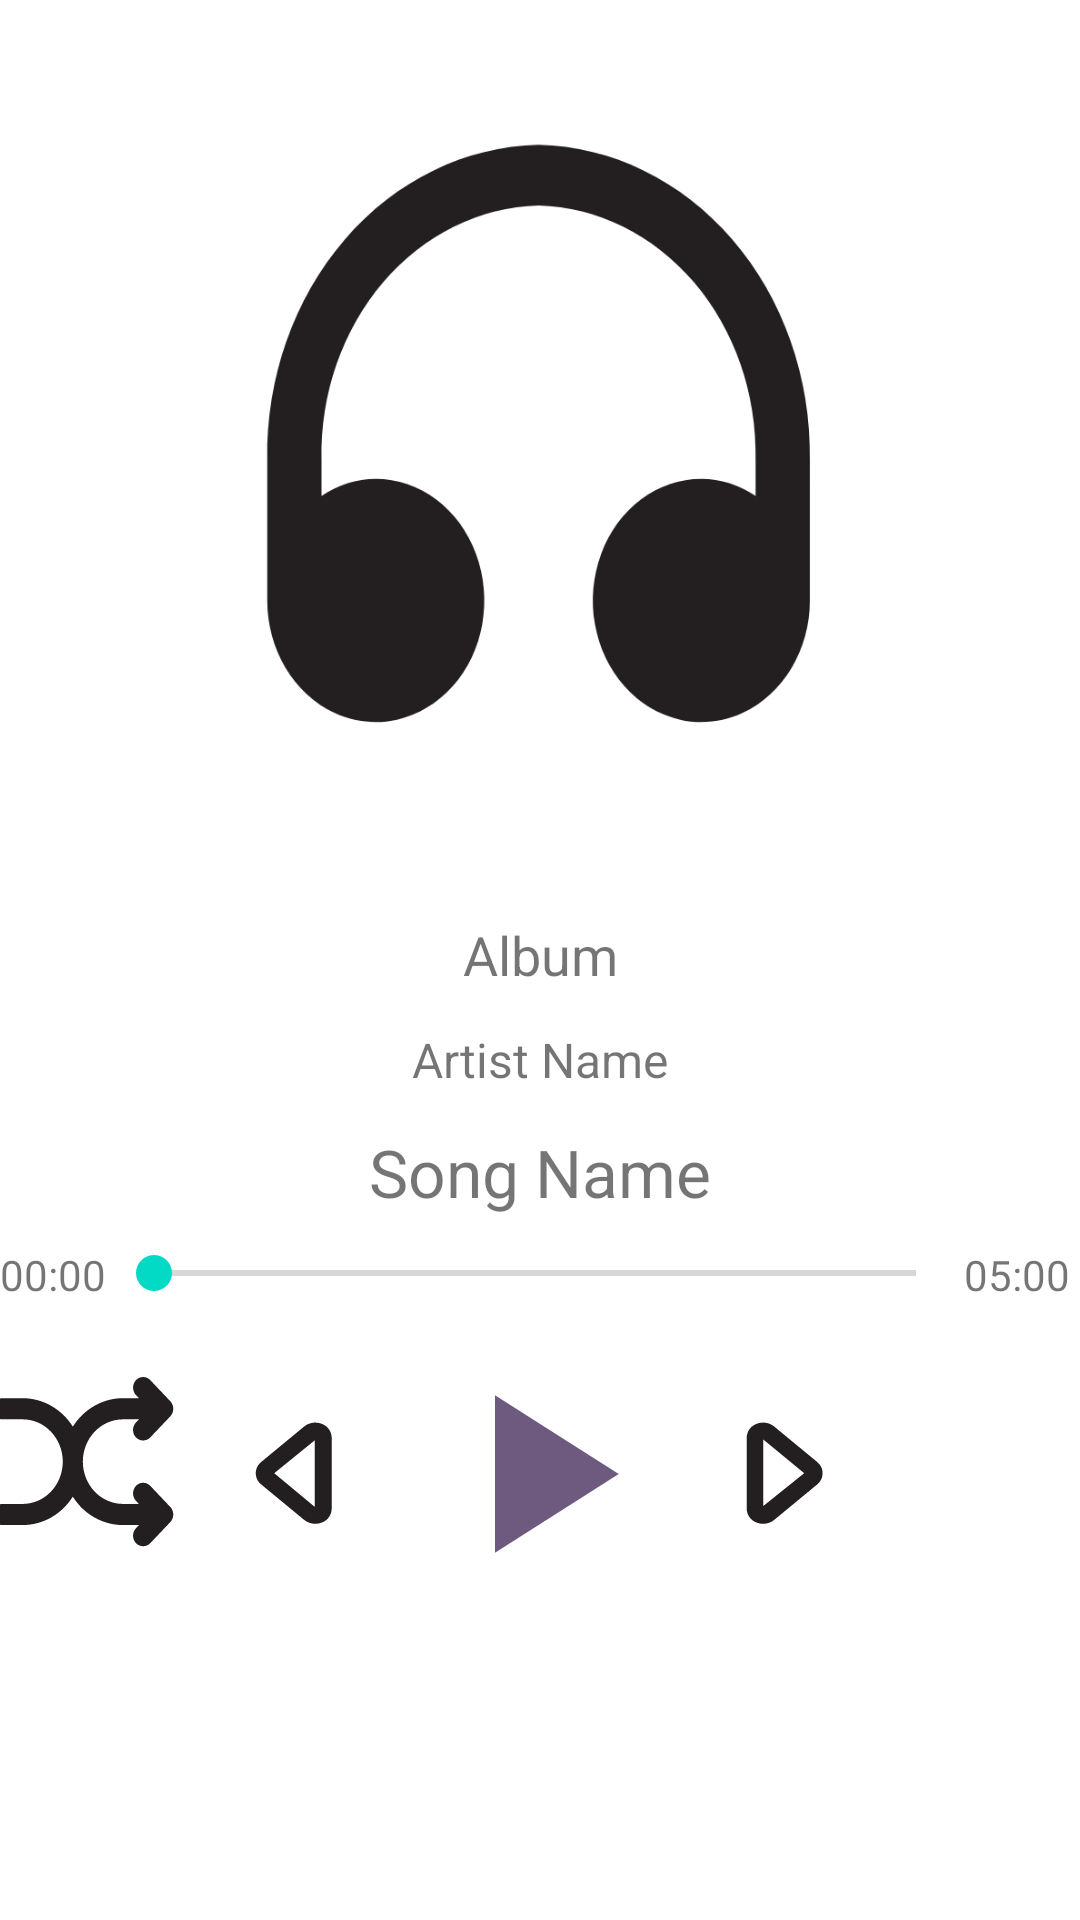

Icons on this 1080x1920 Android screen, each with the point to tap as (x=x, y=y):
next: (x=784, y=1473)
play: (x=557, y=1474)
previous: (x=293, y=1473)
shuffle off: (x=87, y=1462)
